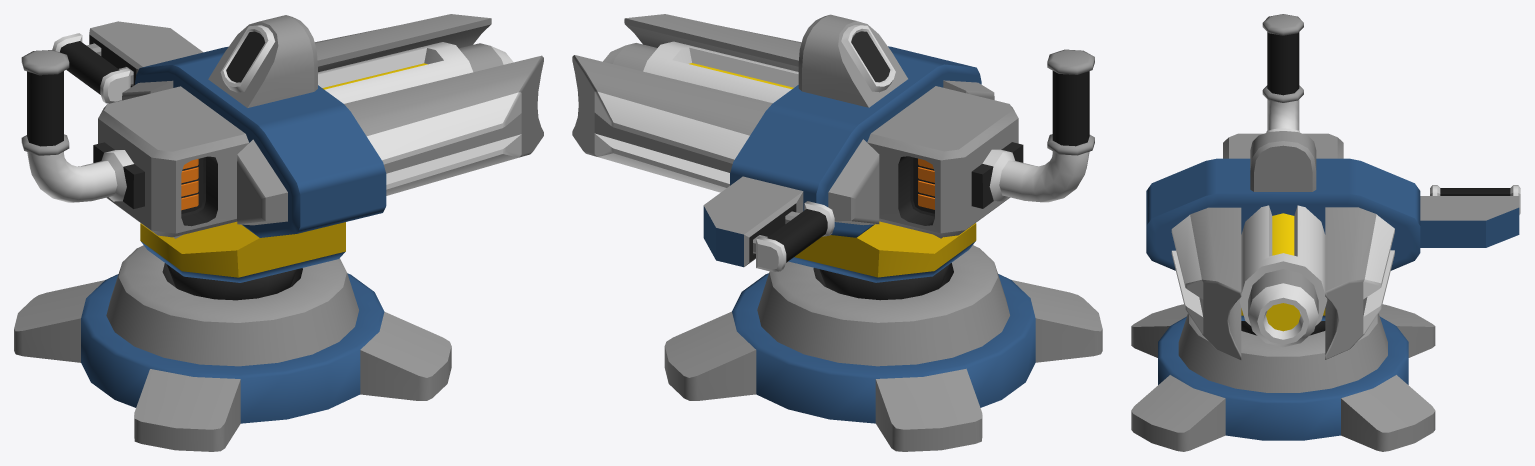
Rendered from TurretPlasma.FBX.
3 renders of one model, left to right at view 1: azimuth 30°, elevation 25°; view 2: azimuth 150°, elevation 25°; view 3: azimuth 270°, elevation 25°, orthographic. The views are drawn at different scales.
Visible parts, largest first — view 1: PlasmaTurret, TurretBase, Handle, Trigger; view 2: PlasmaTurret, TurretBase, Handle, Trigger; view 3: PlasmaTurret, TurretBase, Handle, Trigger.
Boxes of the visible parts, x1=… form: PlasmaTurret: x1=27, y1=14, x2=543, y2=300; TurretBase: x1=14, y1=245, x2=451, y2=451; Handle: x1=21, y1=50, x2=69, y2=155; Trigger: x1=52, y1=33, x2=133, y2=103; PlasmaTurret: x1=572, y1=14, x2=1089, y2=300; TurretBase: x1=664, y1=245, x2=1102, y2=451; Handle: x1=1047, y1=49, x2=1094, y2=155; Trigger: x1=753, y1=201, x2=834, y2=271; PlasmaTurret: x1=1146, y1=99, x2=1519, y2=359; TurretBase: x1=1131, y1=304, x2=1435, y2=451; Handle: x1=1262, y1=14, x2=1303, y2=102; Trigger: x1=1430, y1=185, x2=1520, y2=214.
Size of the model in its own units: 289 by 197 by 237.
